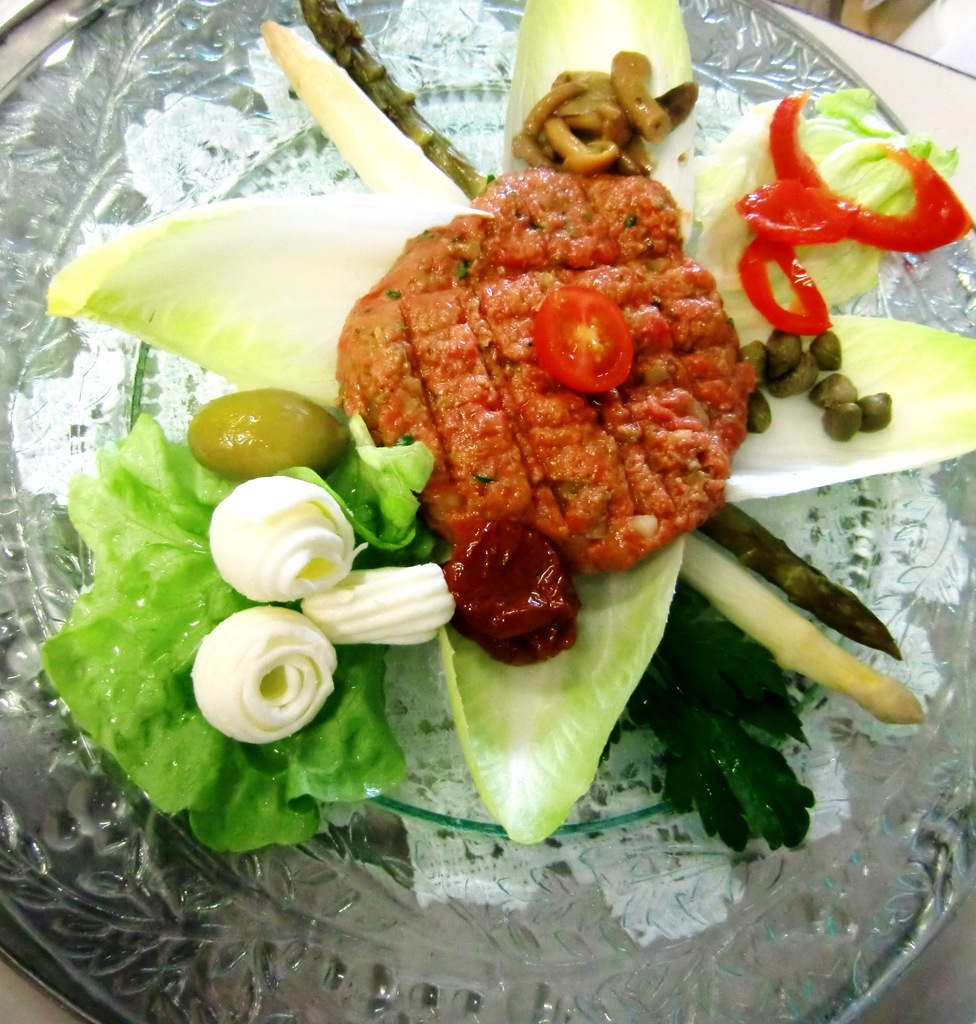Tomato: (763, 82, 973, 252), (534, 282, 633, 392), (739, 170, 868, 248), (744, 229, 830, 336)
